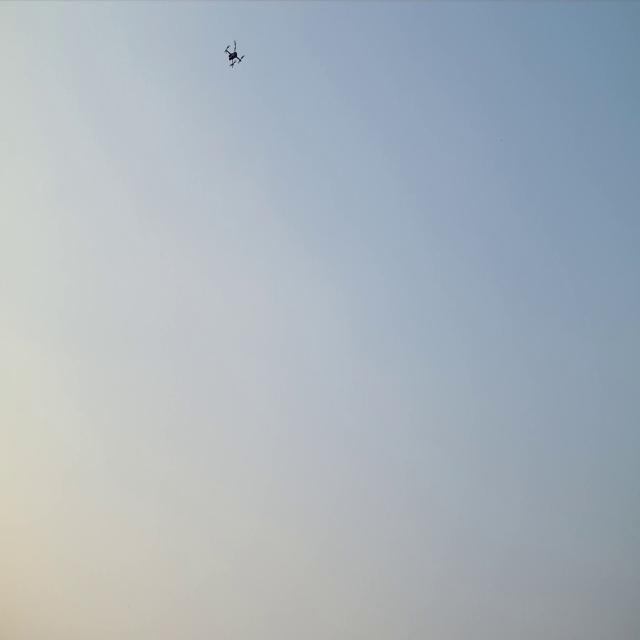UAV: (224, 39, 245, 69)
